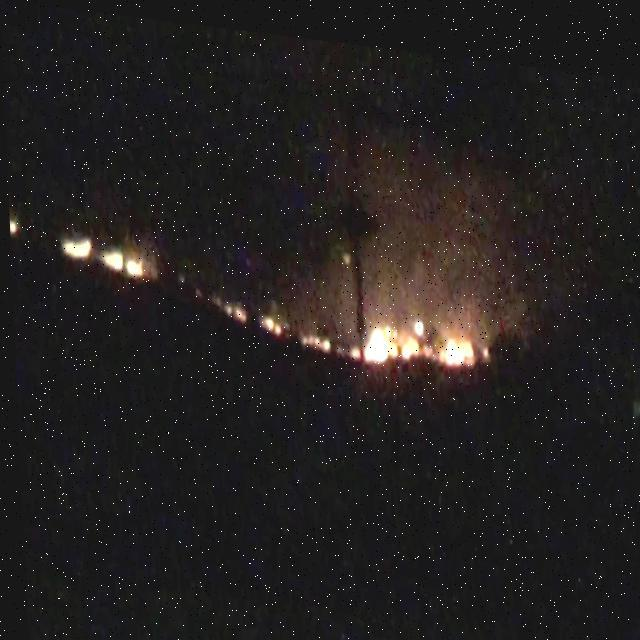Fire: (346, 311, 486, 364), (62, 236, 142, 280), (299, 323, 328, 345), (221, 296, 244, 314), (260, 308, 278, 330)
